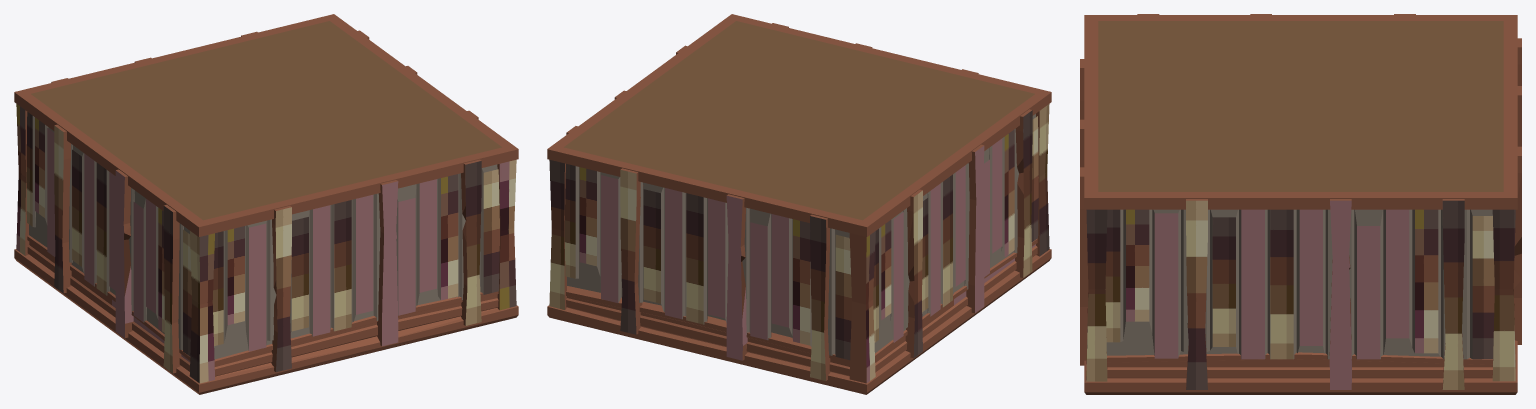
Rendered from SM_Bld_Shanty_Room_02.glb.
3 views of the same model, side by side, from view 1: azimuth 30°, elevation 25°; view 2: azimuth 150°, elevation 25°; view 3: azimuth 270°, elevation 25° (orthographic). The views are drawn at different scales.
Parts seen in each view (by area): view 1: SM_Bld_Shanty_Room_02_00; view 2: SM_Bld_Shanty_Room_02_00; view 3: SM_Bld_Shanty_Room_02_00.
Part boxes in pixels (x1,y1,x2,y2): SM_Bld_Shanty_Room_02_00: (14, 14, 518, 394); SM_Bld_Shanty_Room_02_00: (547, 14, 1051, 394); SM_Bld_Shanty_Room_02_00: (1080, 14, 1521, 394).
Size of the model in its own units: 5.1 by 2.52 by 5.1.
Materials: 1 (1 with a texture image).
